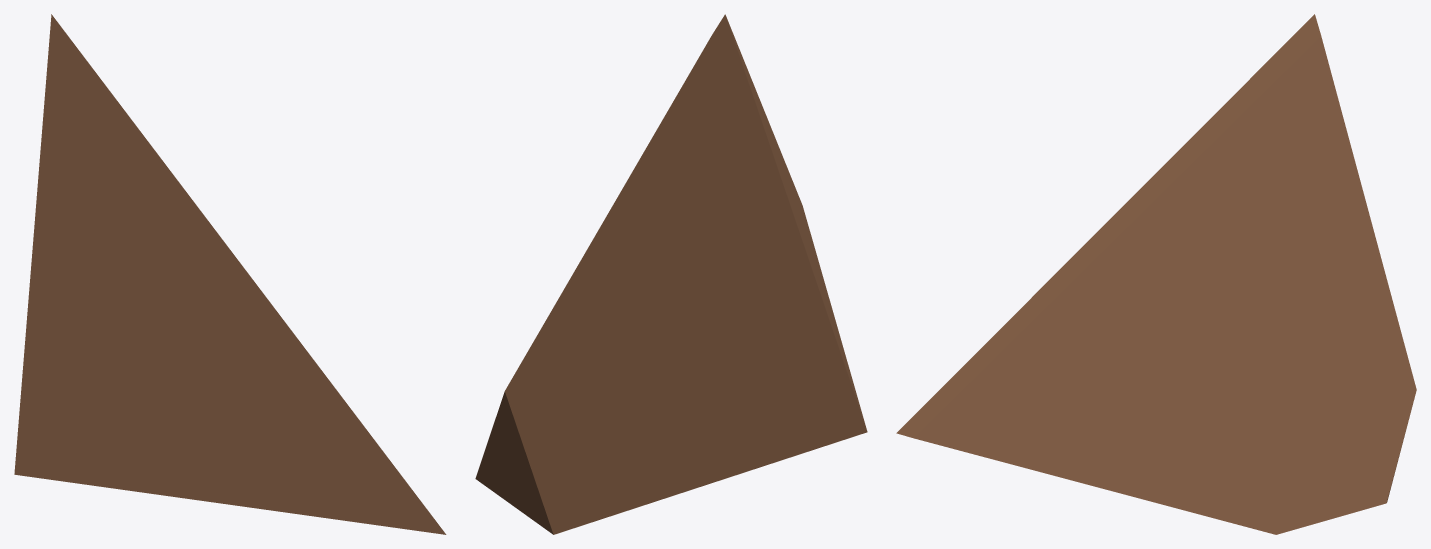
Rendered from WoodCellCube_003_cell_013.fbx.
3 views of the same model, side by side, from view 1: azimuth 30°, elevation 25°; view 2: azimuth 150°, elevation 25°; view 3: azimuth 270°, elevation 25° (orthographic). The views are drawn at different scales.
Parts seen in each view (by area): view 1: WoodCellCube_003_cell_013; view 2: WoodCellCube_003_cell_013; view 3: WoodCellCube_003_cell_013.
Part boxes in pixels (x1=…): WoodCellCube_003_cell_013: x1=14, y1=14, x2=446, y2=534; WoodCellCube_003_cell_013: x1=475, y1=14, x2=867, y2=534; WoodCellCube_003_cell_013: x1=896, y1=14, x2=1416, y2=534.
Bounding box in the file's own units: 0.1737 × 0.1603 × 0.1001.
Materials: 1 (1 with a texture image).
